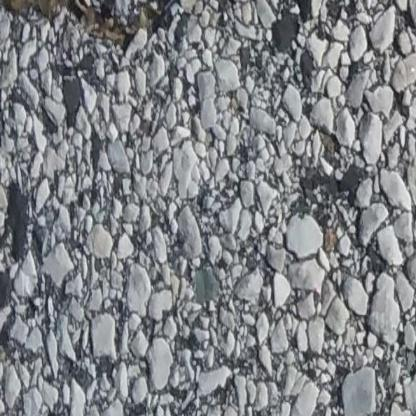Cracks: (0, 0, 186, 55)
